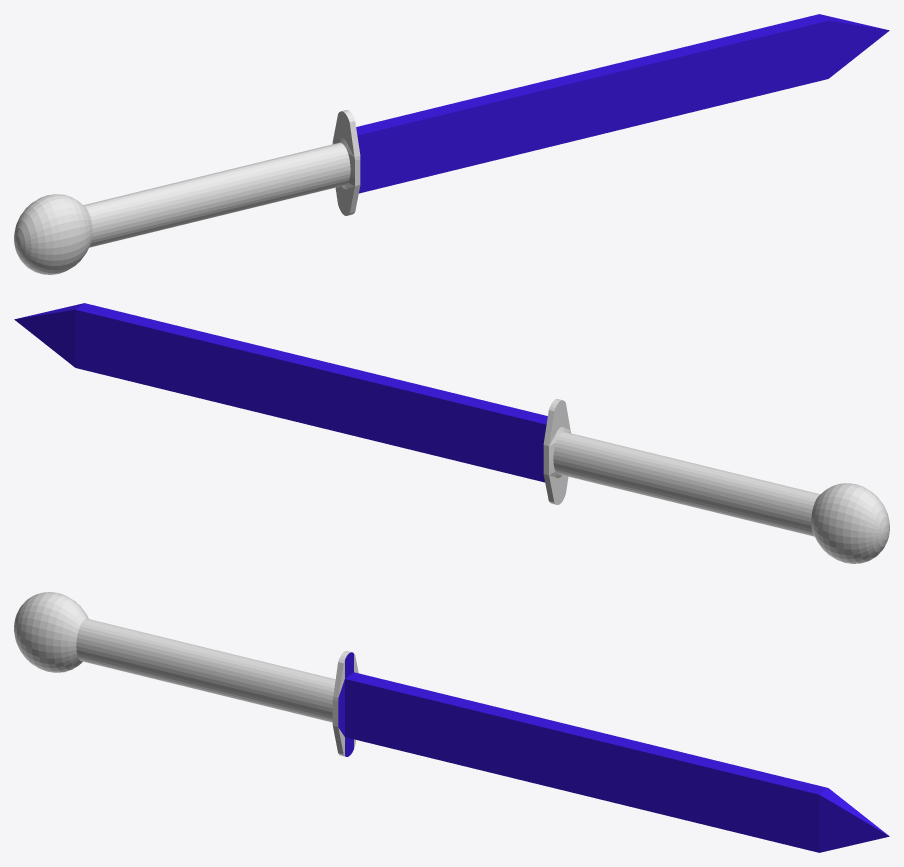
Rendered from SM_ShortSword.fbx.
3 renders of one model, top to bottom at view 1: azimuth 30°, elevation 25°; view 2: azimuth 150°, elevation 25°; view 3: azimuth 330°, elevation 25°, orthographic.
Visible parts, largest first — view 1: Cylinder; view 2: Cylinder; view 3: Cylinder.
Part boxes in pixels (x1,y1,x2,y2): Cylinder: [14, 14, 889, 274]; Cylinder: [14, 303, 889, 563]; Cylinder: [14, 592, 889, 852].
Size of the model in its own units: 3.54 by 58.86 by 6.64.
